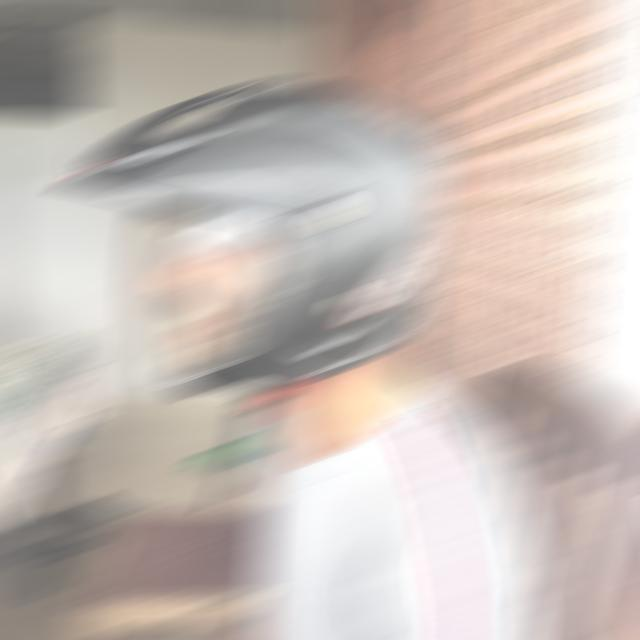With Helmet: (61, 84, 450, 383)
